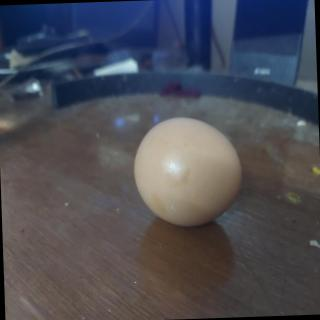Telur: (132, 113, 250, 234)
